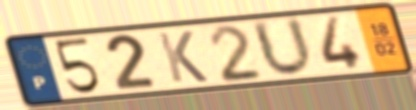2: (208, 23, 266, 84), (108, 31, 162, 94)
4: (318, 14, 365, 72)
5: (51, 35, 102, 96)
K: (154, 29, 211, 85)
U: (248, 15, 317, 80)
